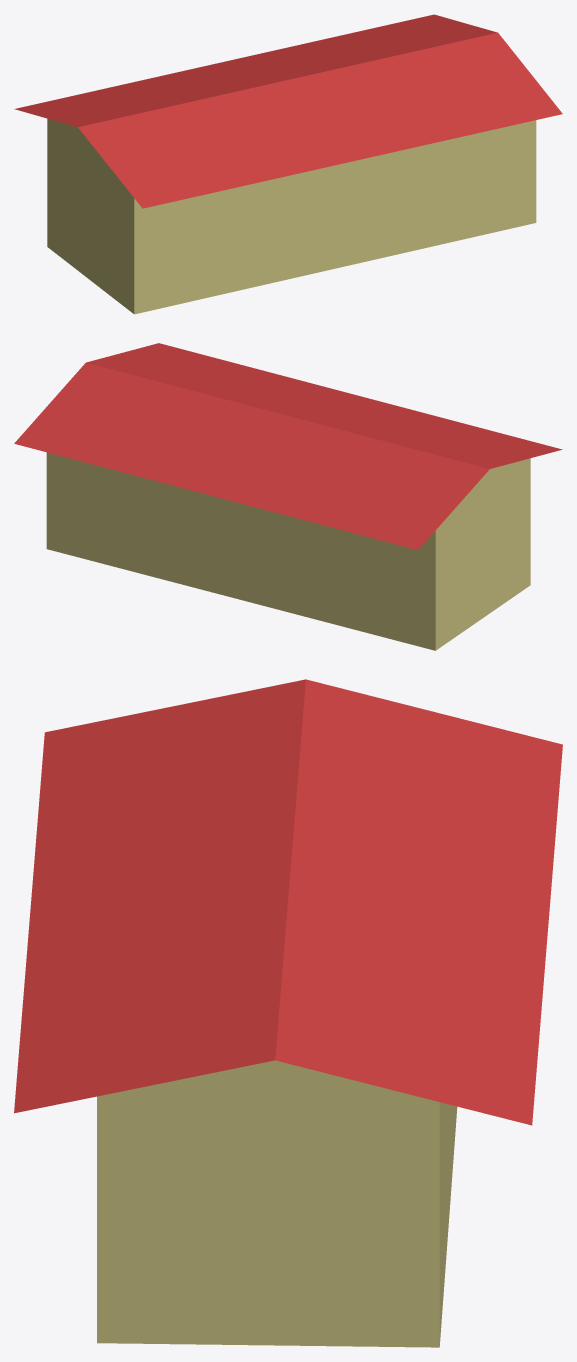
The picture shows the model from 3 angles, top to bottom: view 1: azimuth 30°, elevation 25°; view 2: azimuth 150°, elevation 25°; view 3: azimuth 270°, elevation 25°; orthographic projection. The views are drawn at different scales.
Bounding box in the file's own units: 29.23 × 17.45 × 10.21.
